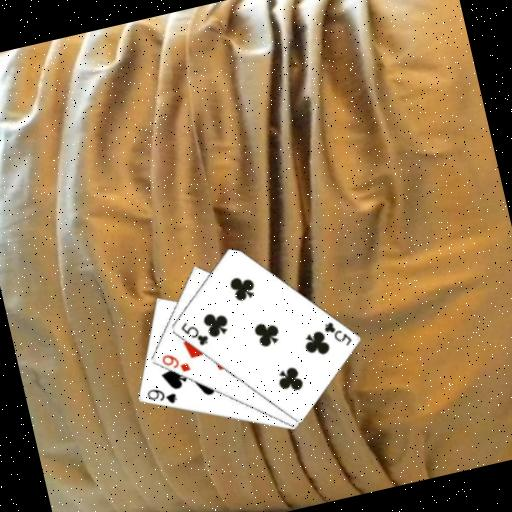5C: (176, 315, 211, 352), (319, 315, 354, 352)
9D: (157, 347, 192, 378)
9S: (142, 381, 179, 411)
